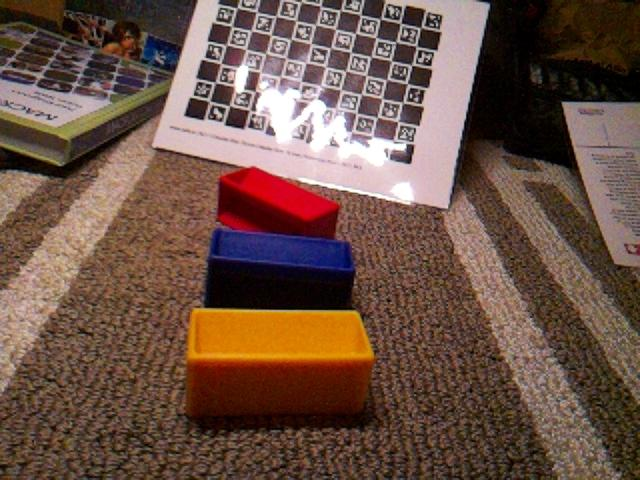blue: (203, 226, 357, 309)
red: (215, 165, 341, 239)
yellow: (184, 306, 376, 420)
